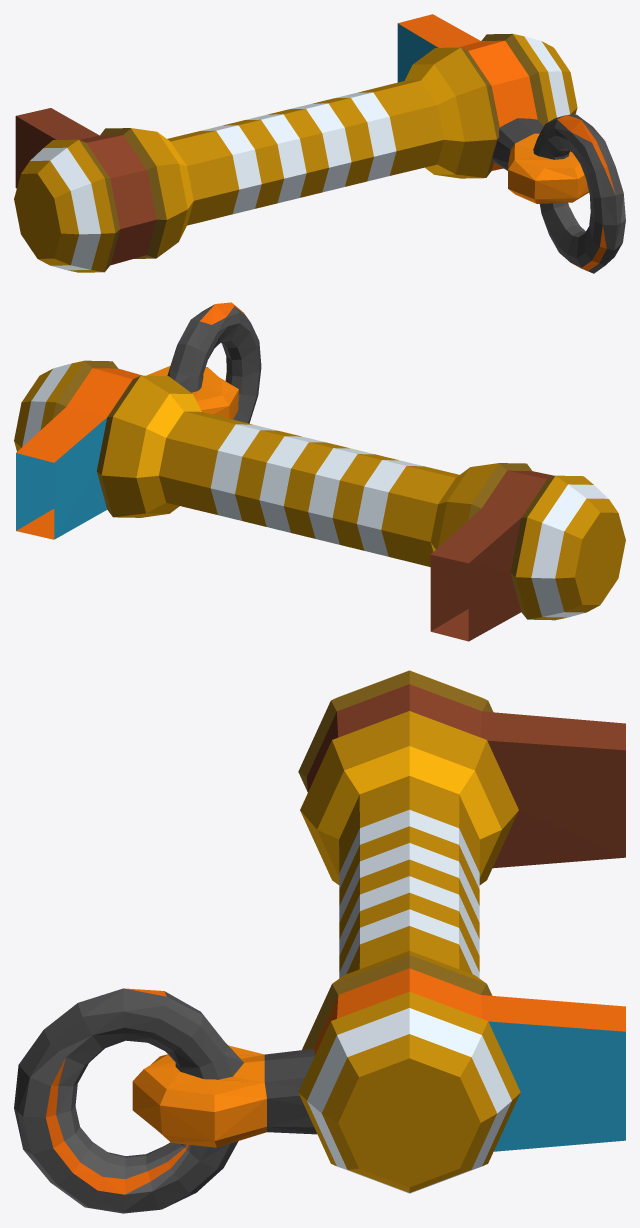
Rendered from VR_AD_GrabHandle_01a.glb.
3 views of the same model, one above another, from view 1: azimuth 30°, elevation 25°; view 2: azimuth 150°, elevation 25°; view 3: azimuth 270°, elevation 25° (orthographic). The views are drawn at different scales.
Parts seen in each view (by area): view 1: VR_AD_GrabHandle_01a; view 2: VR_AD_GrabHandle_01a; view 3: VR_AD_GrabHandle_01a.
Boxes of the visible parts, left/top/right/bottom form: VR_AD_GrabHandle_01a: left=14, top=14, right=625, bottom=273; VR_AD_GrabHandle_01a: left=14, top=302, right=625, bottom=641; VR_AD_GrabHandle_01a: left=14, top=670, right=625, bottom=1213.
Size of the model in its own units: 1.67 by 0.4926 by 1.13.
Materials: 2 (2 with a texture image).
